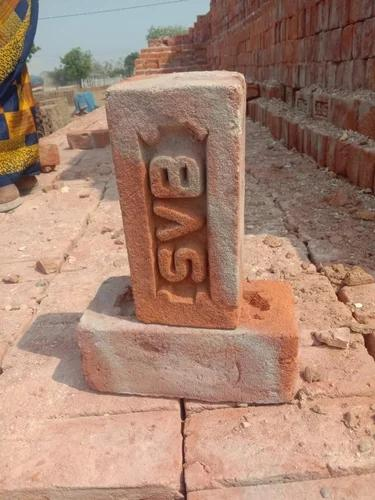brick: (103, 83, 243, 328), (80, 325, 296, 404)
